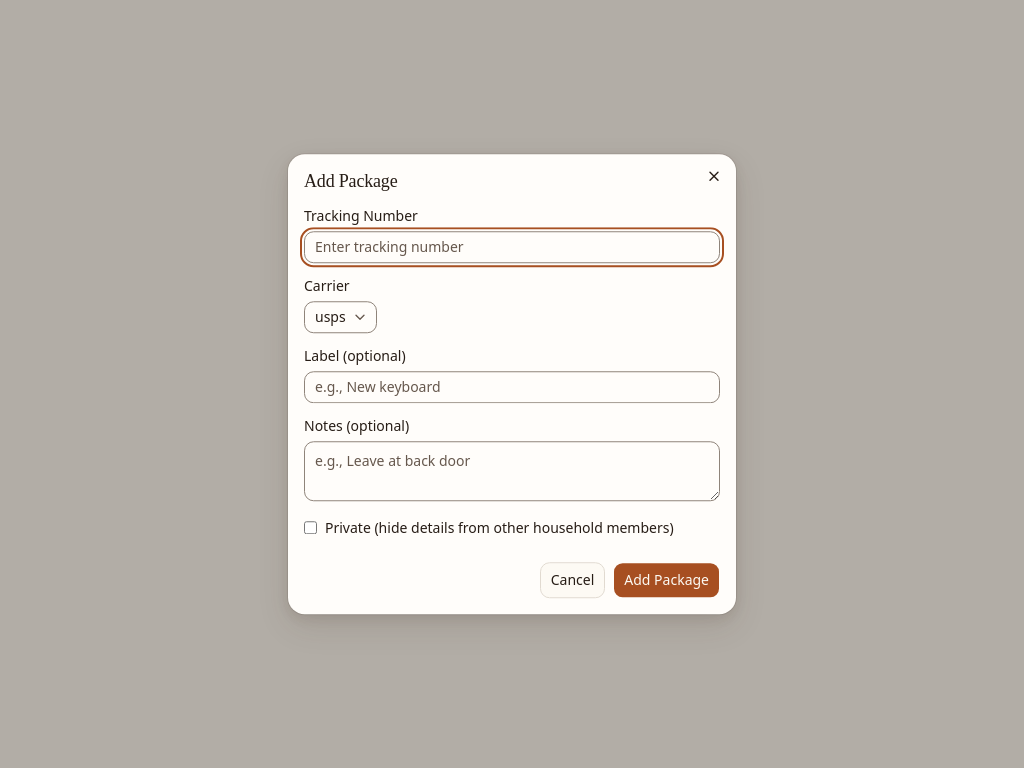
Scenario: CreatePackageDialog › shows validation error when submitting with empty tracking number
Click the button "Add Package" at {"x": 667, "y": 580}, box left=613, top=562, right=720, bottom=598
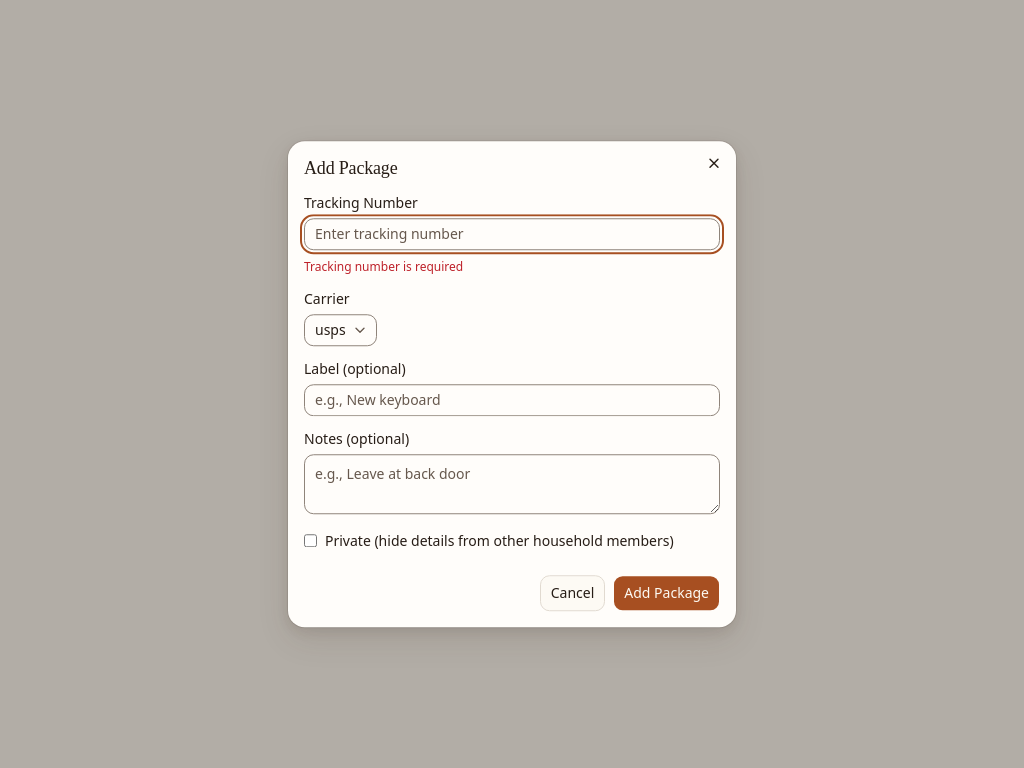
Result: the text "Tracking number is required" is shown at left=304, top=258, right=463, bottom=275
